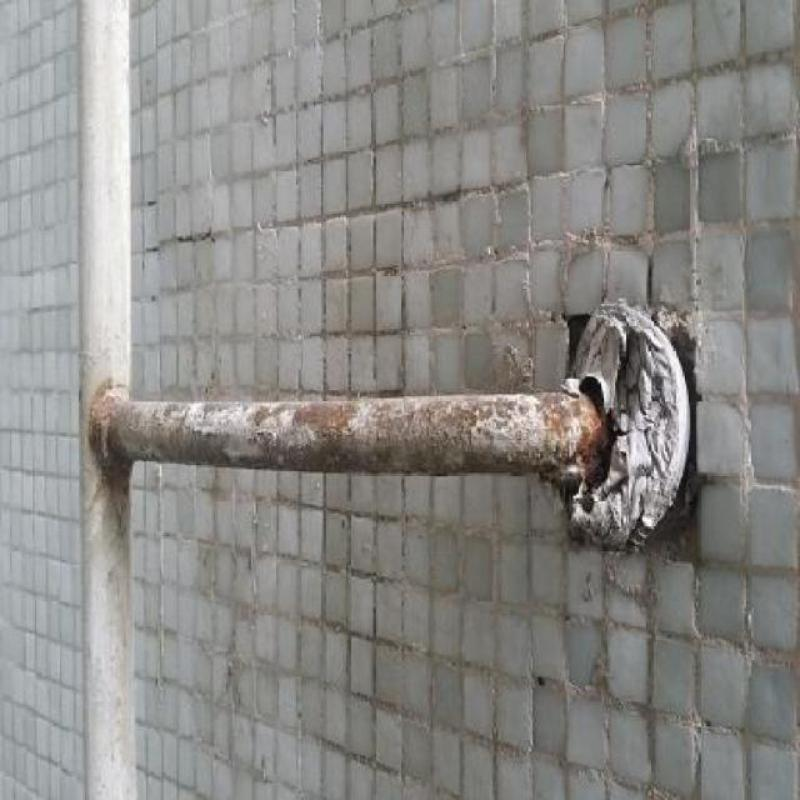Fracture: (569, 377, 622, 500)
